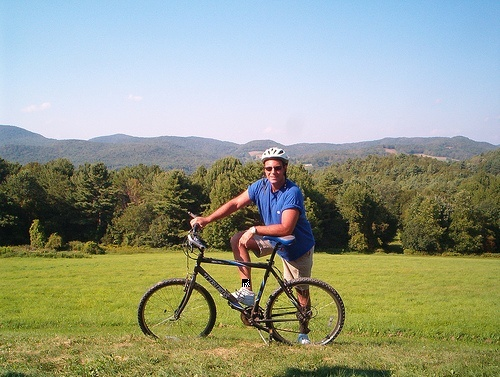car: (138, 209, 346, 349)
person: (190, 147, 316, 346)
person/foot: (221, 287, 255, 306), (298, 335, 310, 346)
person/hand: (238, 228, 256, 248), (191, 216, 207, 230)
person/head: (265, 148, 286, 183)
